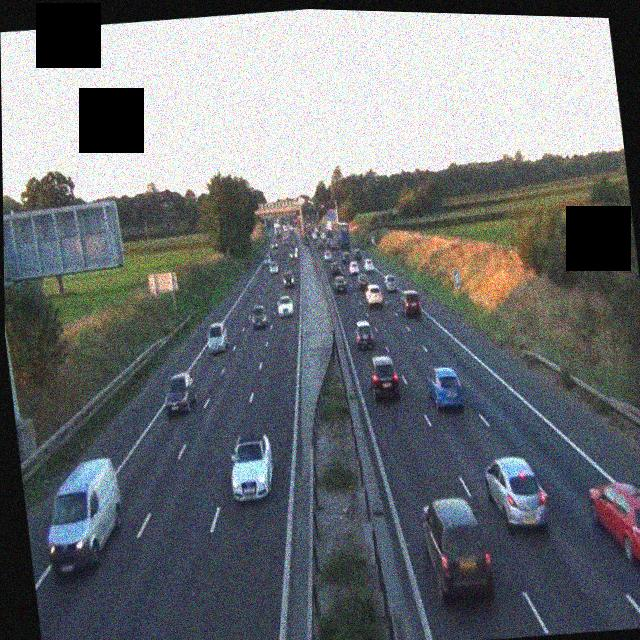car: (38, 453, 129, 578), (419, 493, 495, 604), (483, 453, 549, 533), (588, 476, 640, 570), (226, 432, 276, 502), (424, 363, 465, 412), (161, 371, 200, 417), (367, 350, 401, 401), (204, 319, 230, 354), (352, 316, 376, 349), (399, 286, 423, 319), (364, 283, 383, 312), (249, 304, 268, 328), (277, 292, 295, 317), (281, 268, 296, 288), (383, 273, 399, 290), (333, 275, 348, 293), (348, 259, 360, 278), (266, 257, 278, 275), (363, 257, 375, 274), (327, 254, 338, 269), (290, 245, 299, 259)
truck: (335, 221, 353, 251)
